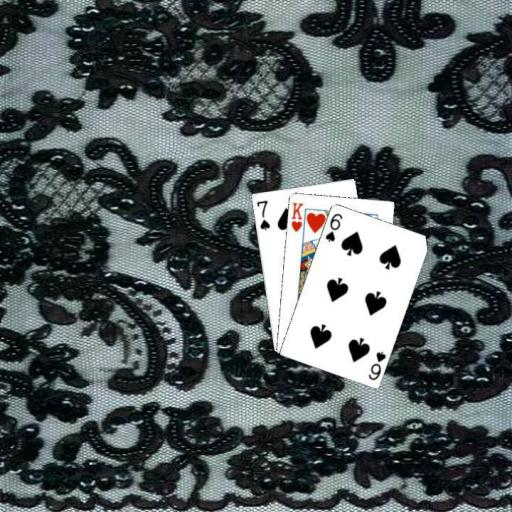card-corner: (364, 348, 388, 381), (322, 210, 344, 243), (253, 197, 271, 231), (288, 199, 304, 233)
